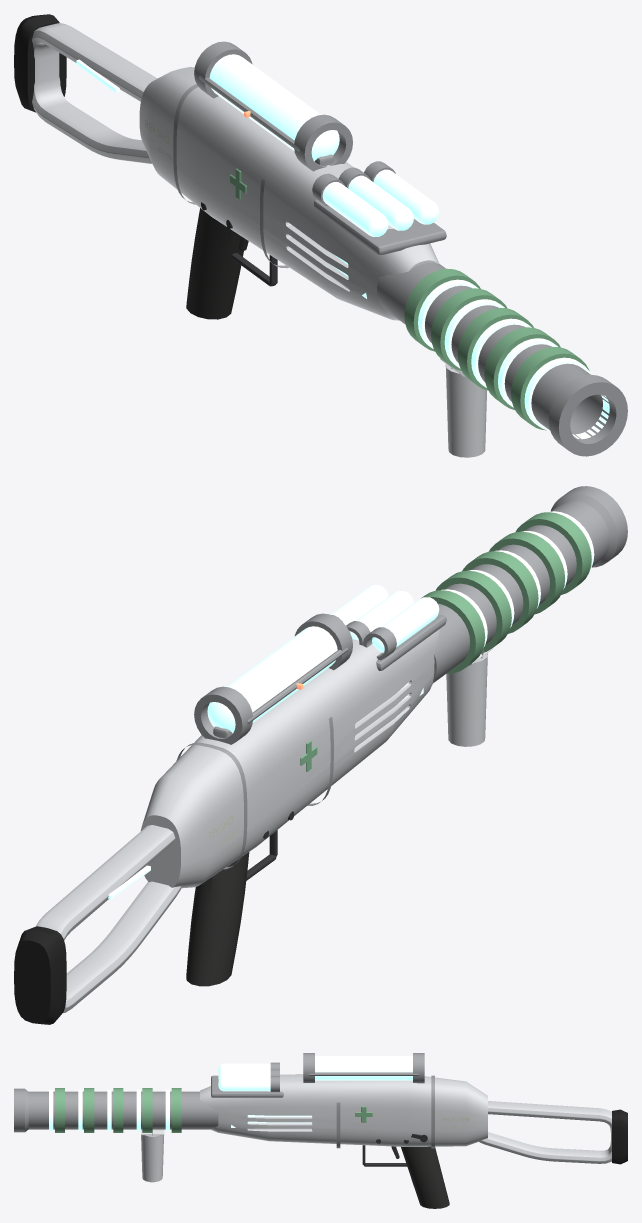
The model's file is revshooter.glb.
3 renders of one model, top to bottom at view 1: azimuth 30°, elevation 25°; view 2: azimuth 150°, elevation 25°; view 3: azimuth 270°, elevation 25°, orthographic. The views are drawn at different scales.
Parts seen in each view (by area): view 1: Body; view 2: Body; view 3: Body.
Boxes of the visible parts, bbox=[...] form: Body: bbox=[14, 14, 627, 457]; Body: bbox=[14, 486, 627, 1024]; Body: bbox=[14, 1053, 627, 1208].
Bounding box in the file's own units: 0.066 × 0.2264 × 0.842.
